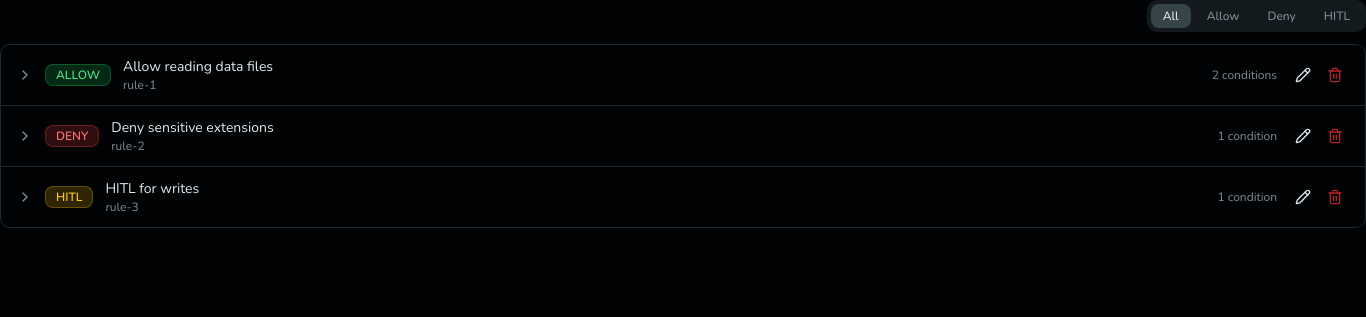
it: PolicyRulesList › expansion › expands on click, shows conditions
Click the button "Allow reading data files" at (78, 75), box [1,45,1365,105]
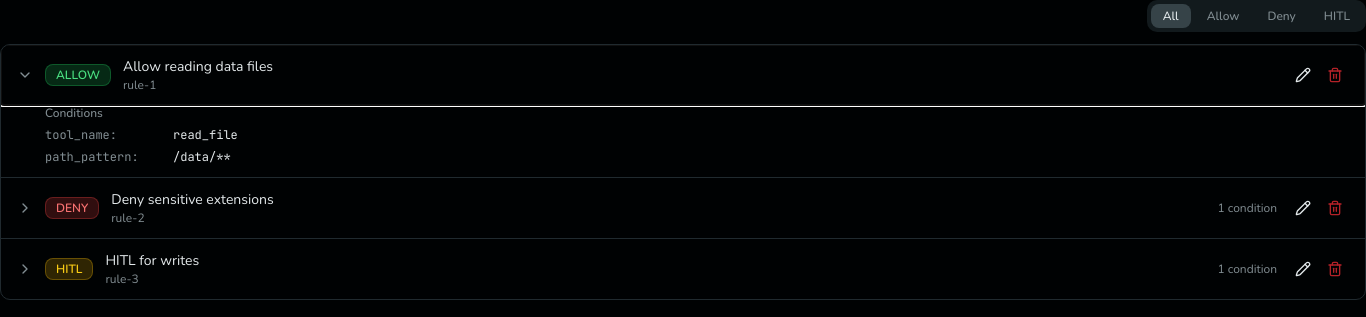
Expected: the text "tool_name:" is shown, [45,127,117,143]
Expected: the text "read_file" is shown, [173,127,238,143]
Expected: the text "path_pattern:" is shown, [45,149,139,165]
